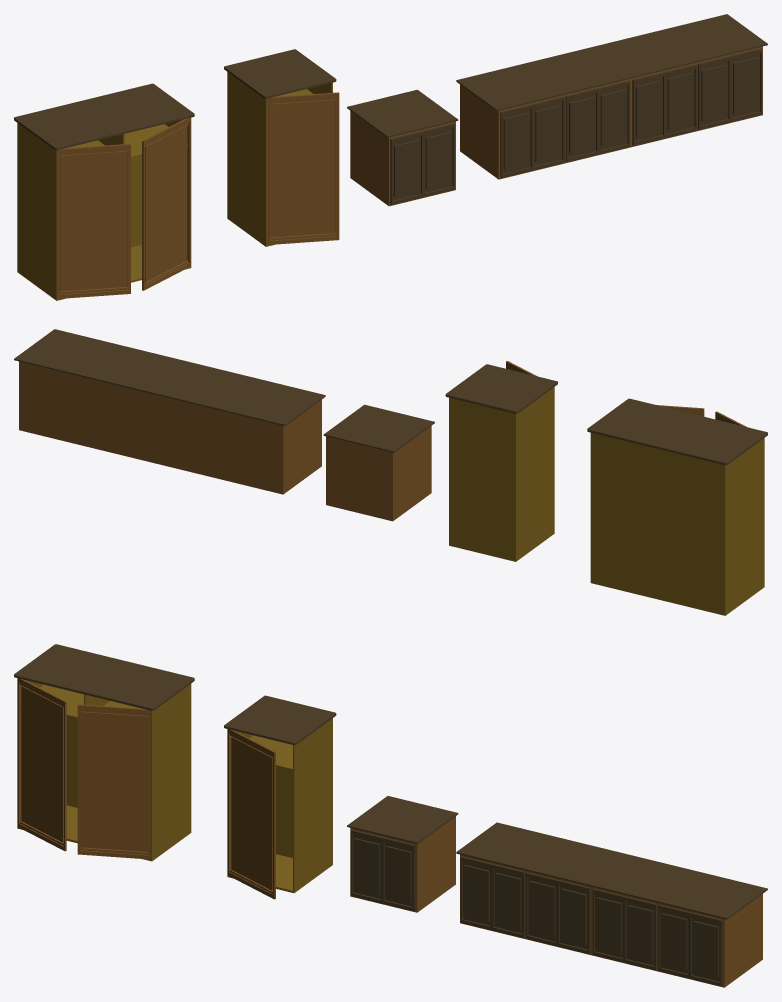
The model's file is cubard2.fbx.
3 renders of one model, top to bottom at view 1: azimuth 30°, elevation 25°; view 2: azimuth 150°, elevation 25°; view 3: azimuth 330°, elevation 25°, orthographic.
Parts seen in each view (by area): view 1: Cube.013, Cube.002, Cube.012, Cube.001, Cube.007, Cube.008, Cube.004, Cube.011, Cube.005; view 2: Cube.013, Cube.002, Cube.012, Cube.001, Cube.005, Cube.009, Cube.006, Cube.010; view 3: Cube.013, Cube.002, Cube.012, Cube.001, Cube.011, Cube.007, Cube.008, Cube.004, Cube.009.
Part boxes in pixels (box(x1,y1,x2,y2)): Cube.013: box(14, 83, 194, 300); Cube.002: box(224, 49, 339, 246); Cube.012: box(456, 14, 767, 111); Cube.001: box(347, 89, 458, 206); Cube.007: box(565, 80, 630, 162); Cube.008: box(697, 48, 762, 129); Cube.004: box(500, 96, 564, 178); Cube.011: box(632, 64, 696, 145); Cube.005: box(460, 84, 565, 179); Cube.013: box(587, 398, 767, 615); Cube.002: box(445, 361, 557, 561); Cube.012: box(14, 329, 325, 426); Cube.001: box(323, 404, 434, 521); Cube.005: box(216, 399, 321, 494); Cube.009: box(19, 361, 85, 446); Cube.006: box(151, 393, 217, 478); Cube.010: box(84, 378, 150, 462); Cube.013: box(14, 644, 194, 861); Cube.002: box(224, 695, 336, 899); Cube.012: box(456, 822, 767, 919); Cube.001: box(347, 796, 458, 912); Cube.011: box(592, 888, 657, 970); Cube.007: box(525, 872, 590, 953); Cube.008: box(658, 904, 722, 986); Cube.004: box(460, 856, 524, 937); Cube.009: box(658, 894, 762, 987).
Size of the model in its own units: 2135 by 441 by 281.
